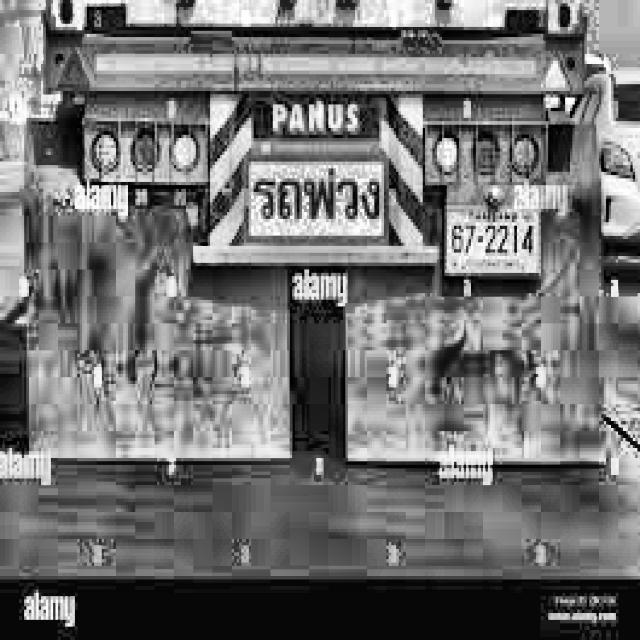license-plate: (440, 195, 545, 287)
